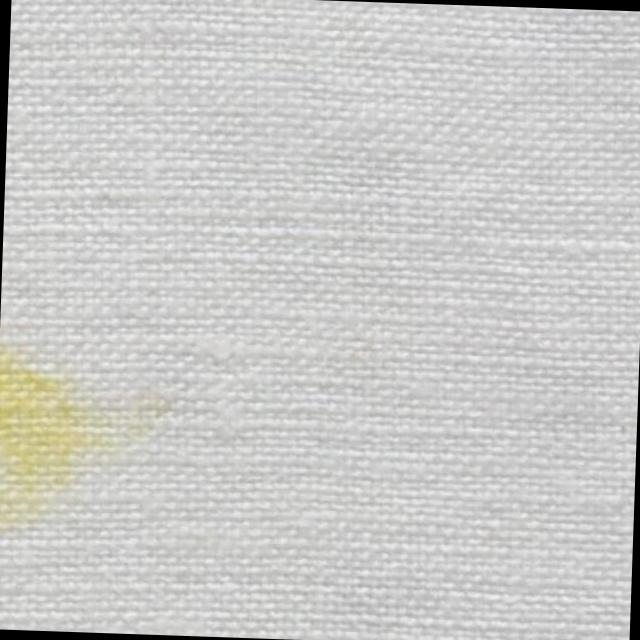Stain: (0, 342, 103, 549)
